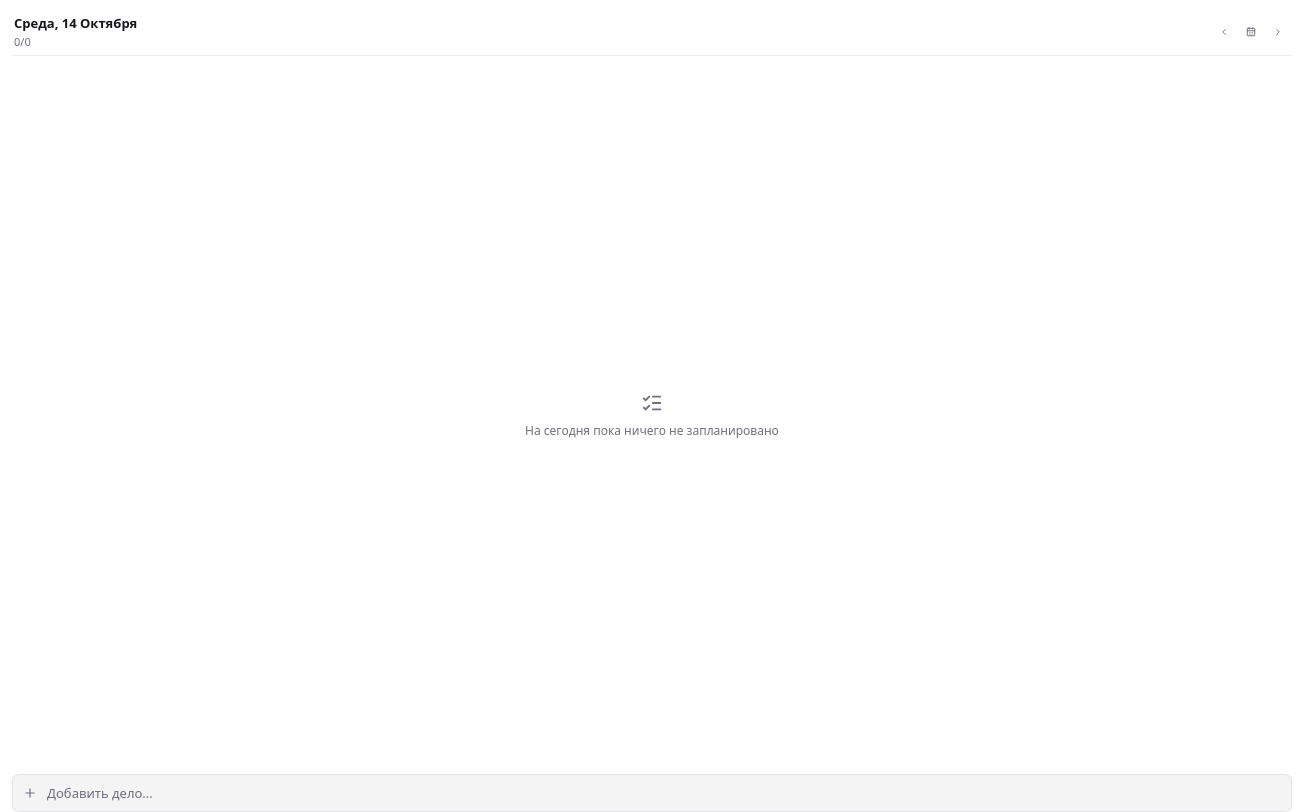
Test: DayView › adds a new item through the quick-add form
Expected: the text "На сегодня пока ничего не запланировано" is shown, 525,422 -> 779,438
In the field with placeholder "Добавить дело...": (663, 793) 45,783 -> 1281,803, type "Новое дело"
Then press Enter
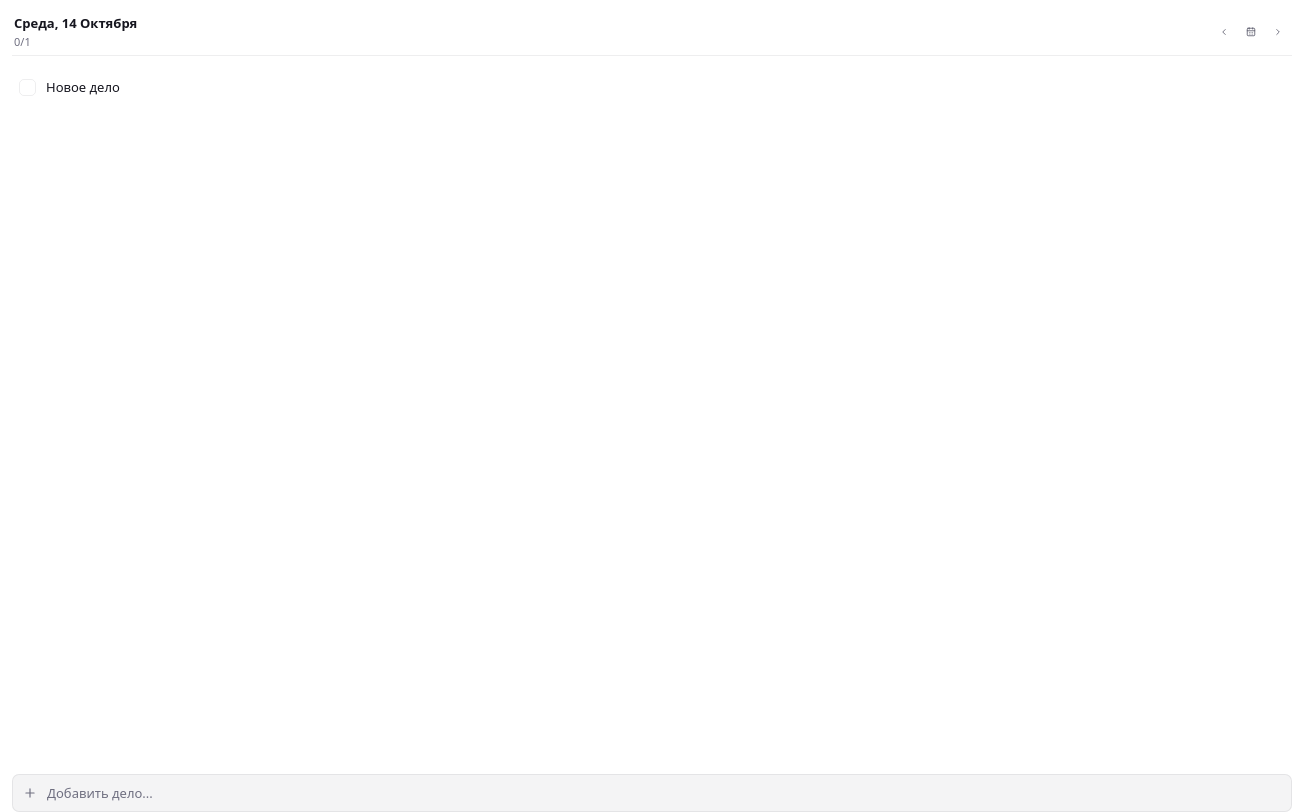
Expected: the button "Новое дело" is shown, 46,78 -> 1121,96
